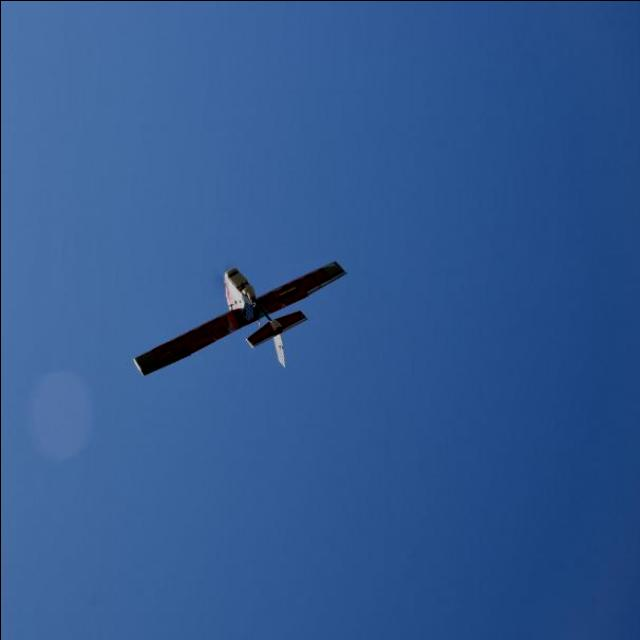plane: (134, 259, 348, 377)
